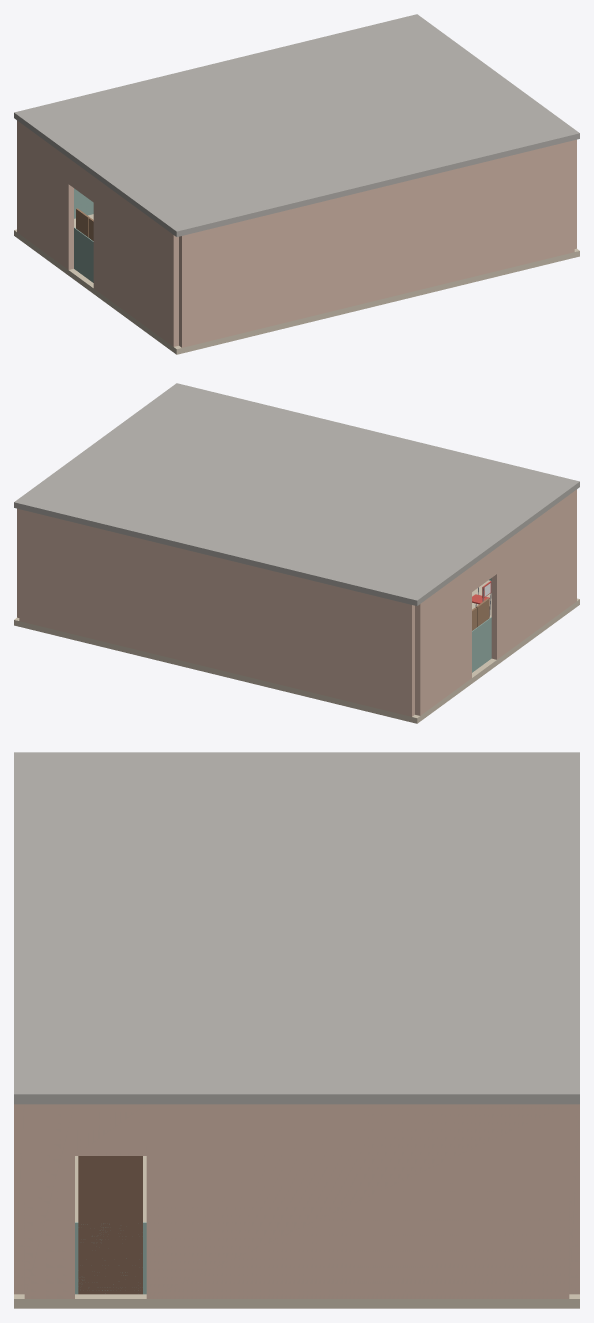
Rendered from cantina.glb.
3 renders of one model, top to bottom at view 1: azimuth 30°, elevation 25°; view 2: azimuth 150°, elevation 25°; view 3: azimuth 270°, elevation 25°, orthographic. The views are drawn at different scales.
Parts seen in each view (by area): view 1: C_techo-convcol, C_sur-convcol, C_oeste_b-convcol, C_oeste_a-convcol, C_piso-convcol, C_zoclo_o, C_oeste_c; view 2: C_techo-convcol, C_norte-convcol, C_oeste_b-convcol, C_oeste_a-convcol, C_piso-convcol, C_zoclo_o, C_oeste_c; view 3: C_techo-convcol, C_este_a-convcol, C_este_b-convcol, C_puerta_atras, C_piso-convcol, C_este_c, C_norte-convcol, C_sur-convcol.
Part boxes in pixels (bbox=[...]): C_techo-convcol: bbox=[14, 14, 579, 236]; C_sur-convcol: bbox=[179, 140, 574, 347]; C_oeste_b-convcol: bbox=[93, 177, 178, 346]; C_oeste_a-convcol: bbox=[17, 120, 73, 269]; C_piso-convcol: bbox=[14, 214, 579, 354]; C_zoclo_o: bbox=[74, 227, 93, 282]; C_oeste_c: bbox=[68, 158, 93, 202]; C_techo-convcol: bbox=[14, 383, 579, 605]; C_norte-convcol: bbox=[19, 509, 414, 716]; C_oeste_b-convcol: bbox=[491, 489, 576, 659]; C_oeste_a-convcol: bbox=[415, 566, 471, 715]; C_piso-convcol: bbox=[14, 580, 579, 723]; C_zoclo_o: bbox=[472, 617, 491, 672]; C_oeste_c: bbox=[472, 548, 496, 591]; C_techo-convcol: bbox=[14, 752, 579, 1104]; C_este_a-convcol: bbox=[146, 1104, 569, 1298]; C_este_b-convcol: bbox=[24, 1104, 74, 1298]; C_puerta_atras: bbox=[78, 1156, 142, 1294]; C_piso-convcol: bbox=[14, 1156, 579, 1308]; C_este_c: bbox=[75, 1104, 146, 1155]; C_norte-convcol: bbox=[569, 1104, 579, 1294]; C_sur-convcol: bbox=[14, 1104, 24, 1294].
Size of what is drawn, in the model's own units: 11.3 by 3.3 by 7.9.
